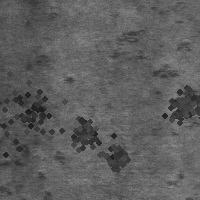rolled-in_scale: (0, 54, 81, 172), (150, 26, 200, 128), (1, 130, 67, 196), (107, 25, 149, 71), (156, 84, 198, 126), (63, 111, 103, 151), (93, 137, 133, 177), (164, 79, 200, 123)
